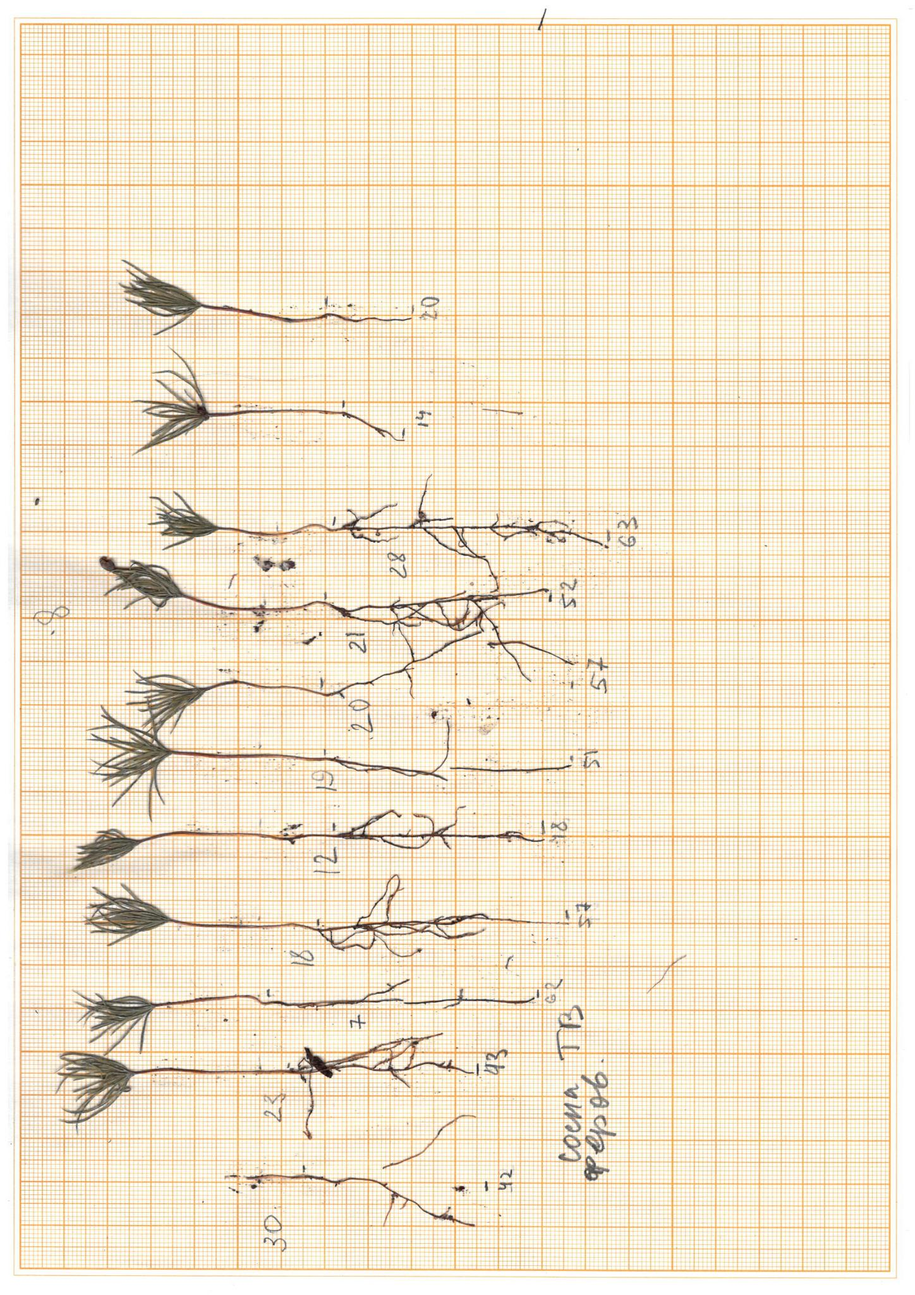Seeding: (87, 703, 573, 822), (53, 1028, 480, 1139), (126, 633, 576, 731), (96, 551, 552, 645), (84, 871, 534, 963), (144, 482, 612, 567), (69, 798, 548, 881), (72, 977, 539, 1053), (131, 342, 406, 460), (116, 252, 414, 341), (234, 1159, 490, 1242)
